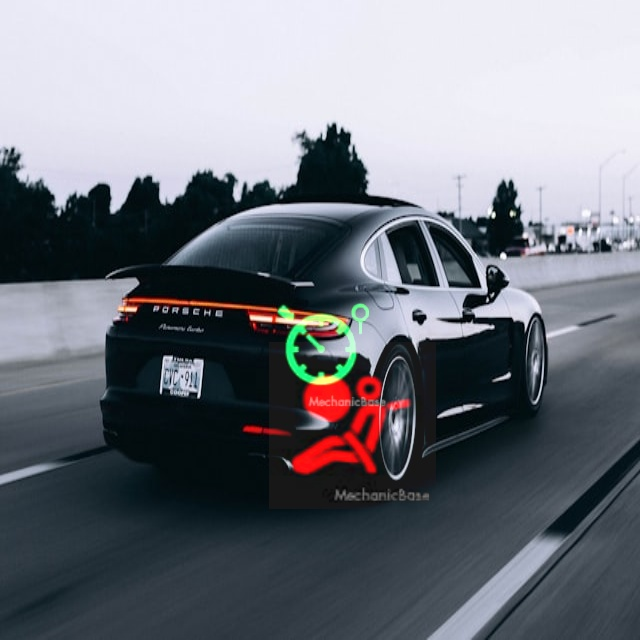symbol: (269, 342, 436, 509), (256, 278, 391, 413)
